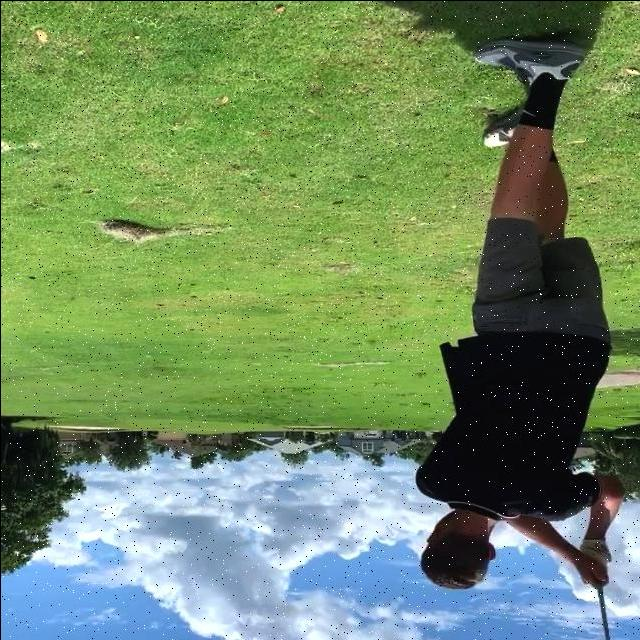ClubHandle: (598, 587, 610, 640)
